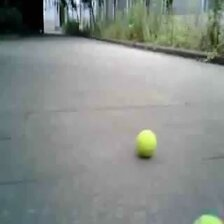tennis: (135, 128, 156, 156)
